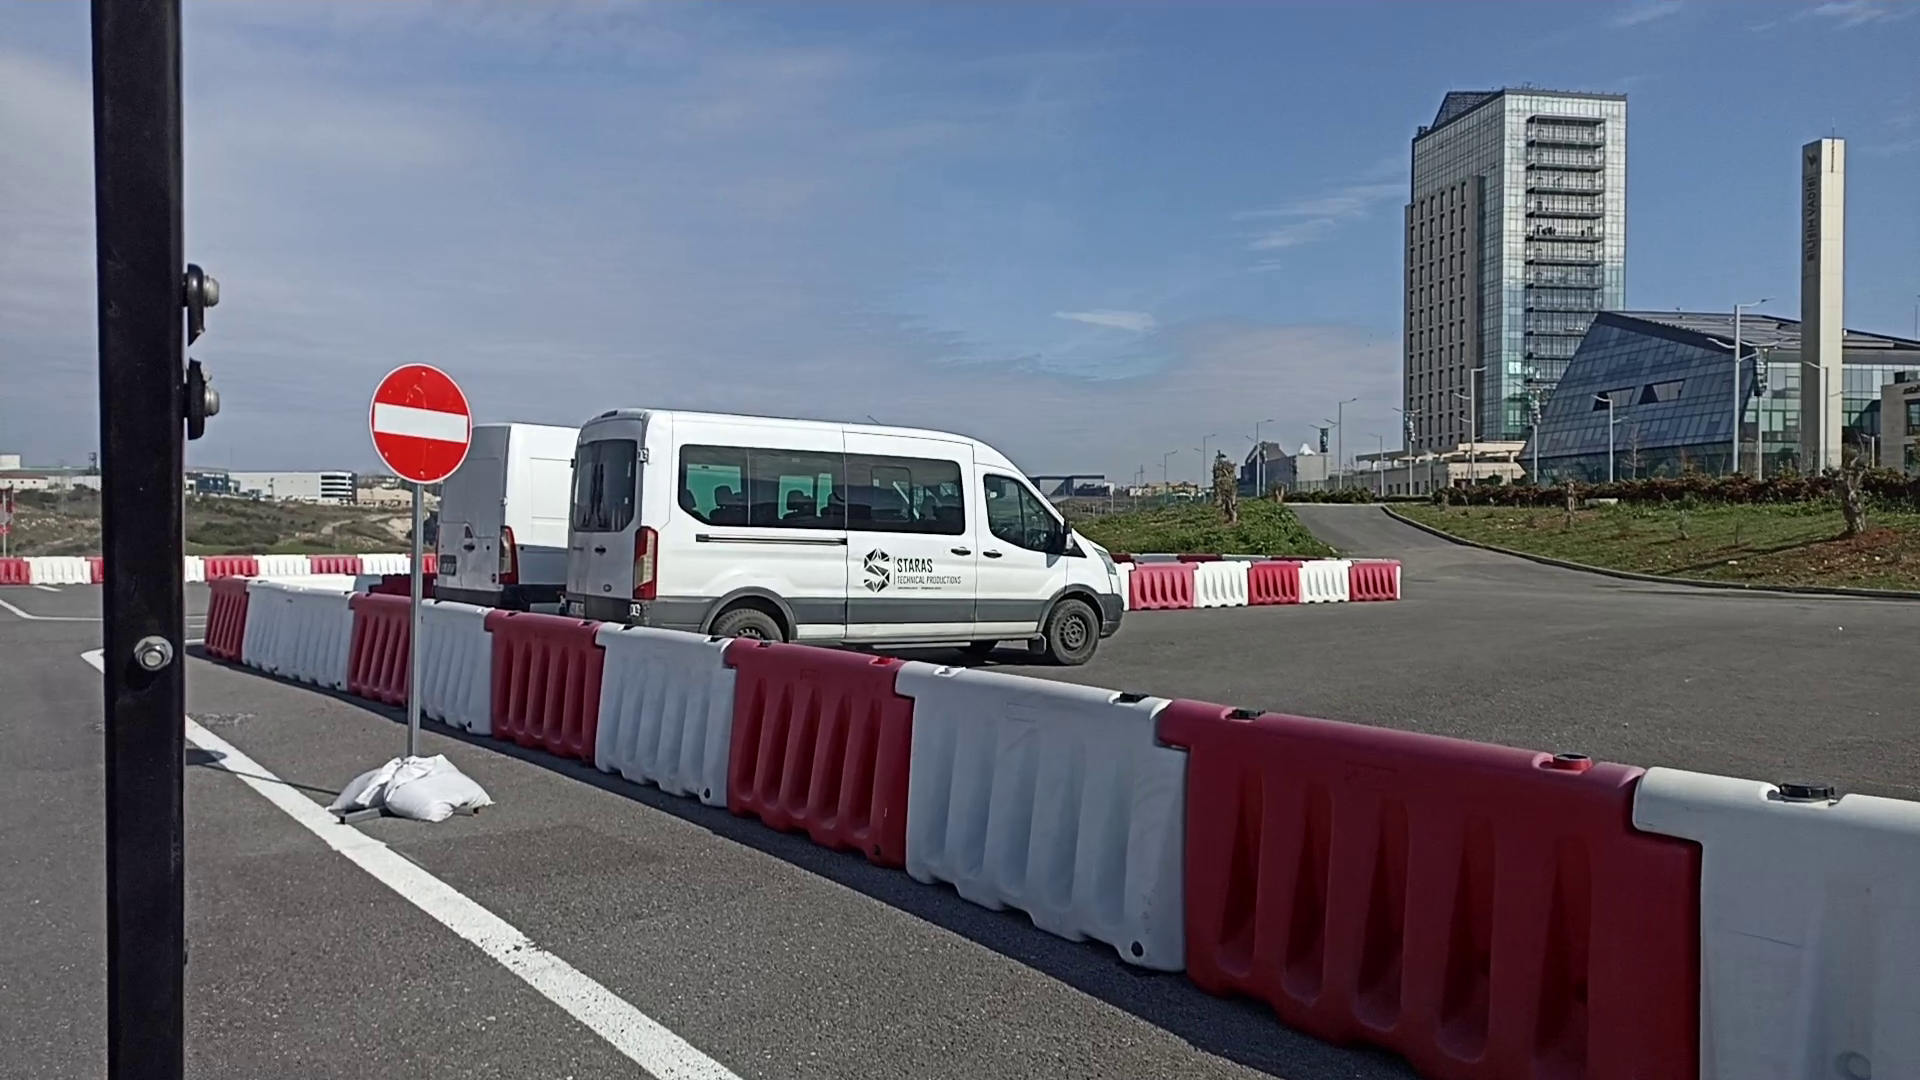noentryway: (368, 363, 473, 484)
